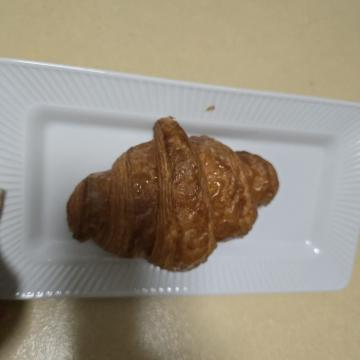croissant: (102, 72, 284, 306)
